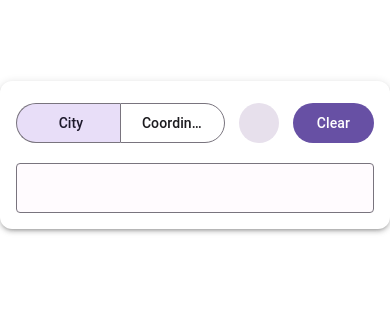
Test case: SearchBar Component › Coordinates Mode › validates an invalid longitude and announces the error
Click the button with aria-label "Coordinates search". click: coordinates (172, 123)
box: [121,104,224,142]
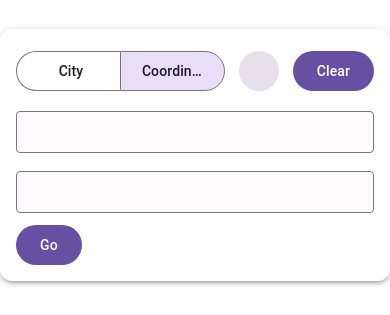
Type "45" into the field named "latitude". click: coordinates (195, 133)
box: [16,113,374,153]
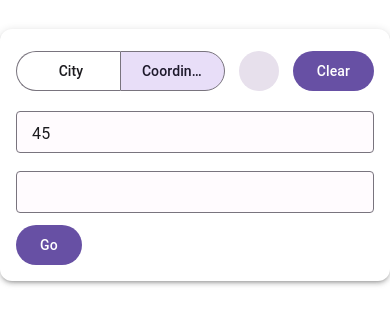
Type "200" into the field named "longitude". click: coordinates (195, 193)
box: [16,173,374,213]
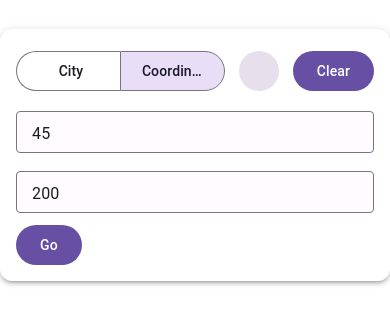
Click the button "Go". click: coordinates (49, 245)
box: [16,225,82,265]
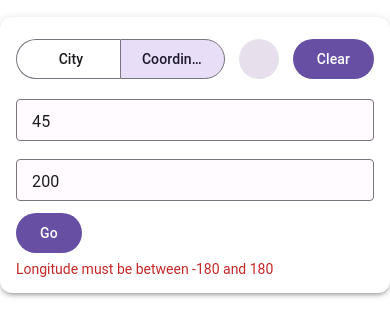
Result: the message reads "Longitude must be between -180 and 180" at [16,261,273,277]
